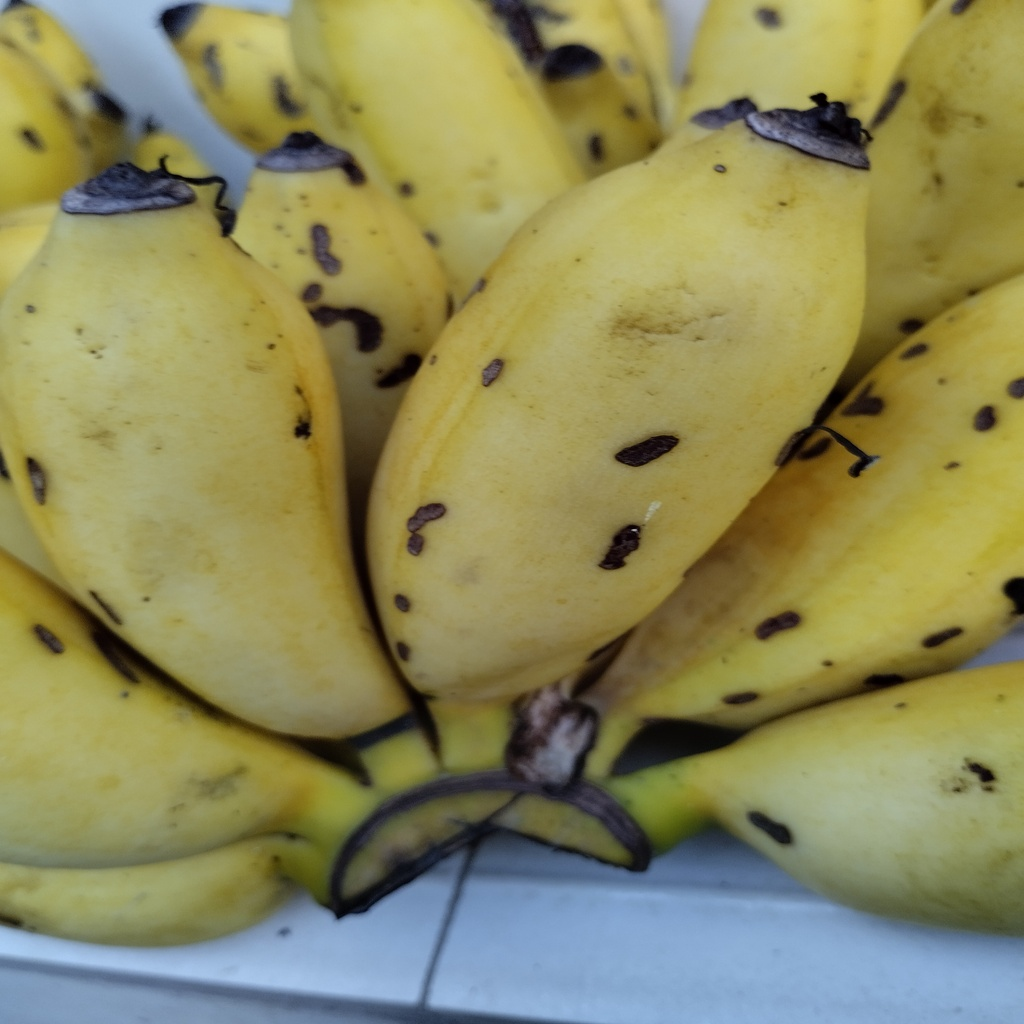unhealthy: (372, 118, 867, 696), (4, 175, 388, 735)
